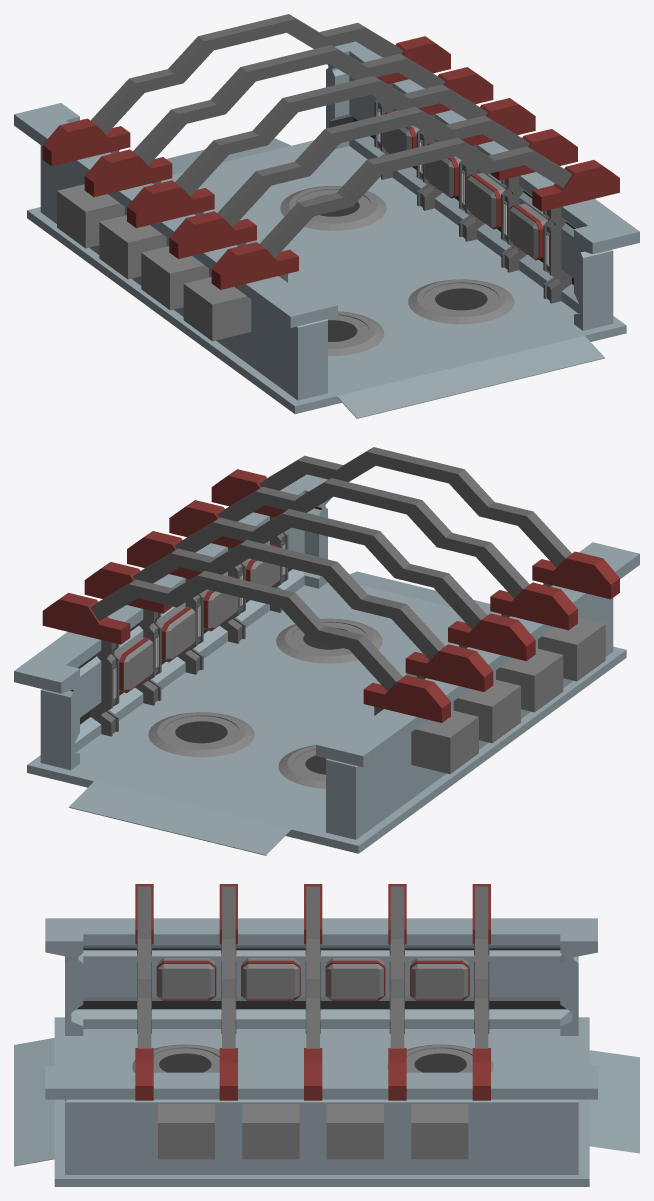
3 renders of one model, top to bottom at view 1: azimuth 30°, elevation 25°; view 2: azimuth 150°, elevation 25°; view 3: azimuth 270°, elevation 25°, orthographic.
Visible parts, largest first — view 1: main, supports, storage, plats; view 2: main, supports, storage, plats; view 3: main, storage, supports, plats.
Part boxes in pixels (x1,y1,x2,y2): main: [14, 41, 639, 418]; supports: [42, 14, 619, 303]; storage: [57, 110, 547, 341]; plats: [246, 185, 514, 355]; main: [14, 474, 639, 855]; supports: [42, 447, 619, 736]; storage: [115, 543, 605, 774]; plats: [148, 618, 416, 788]; main: [14, 918, 639, 1186]; storage: [156, 958, 469, 1159]; supports: [135, 884, 490, 1100]; plats: [132, 1044, 493, 1072].
Bounding box in the file's own units: 5024 × 2280 × 6830.
